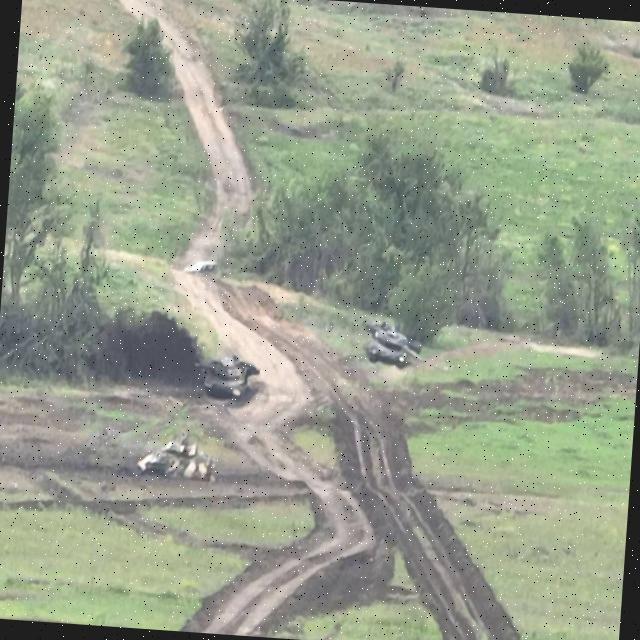AIFV: (136, 435, 218, 488)
MBT: (191, 350, 261, 404), (357, 318, 428, 368)
Vehicle: (183, 259, 223, 281)
